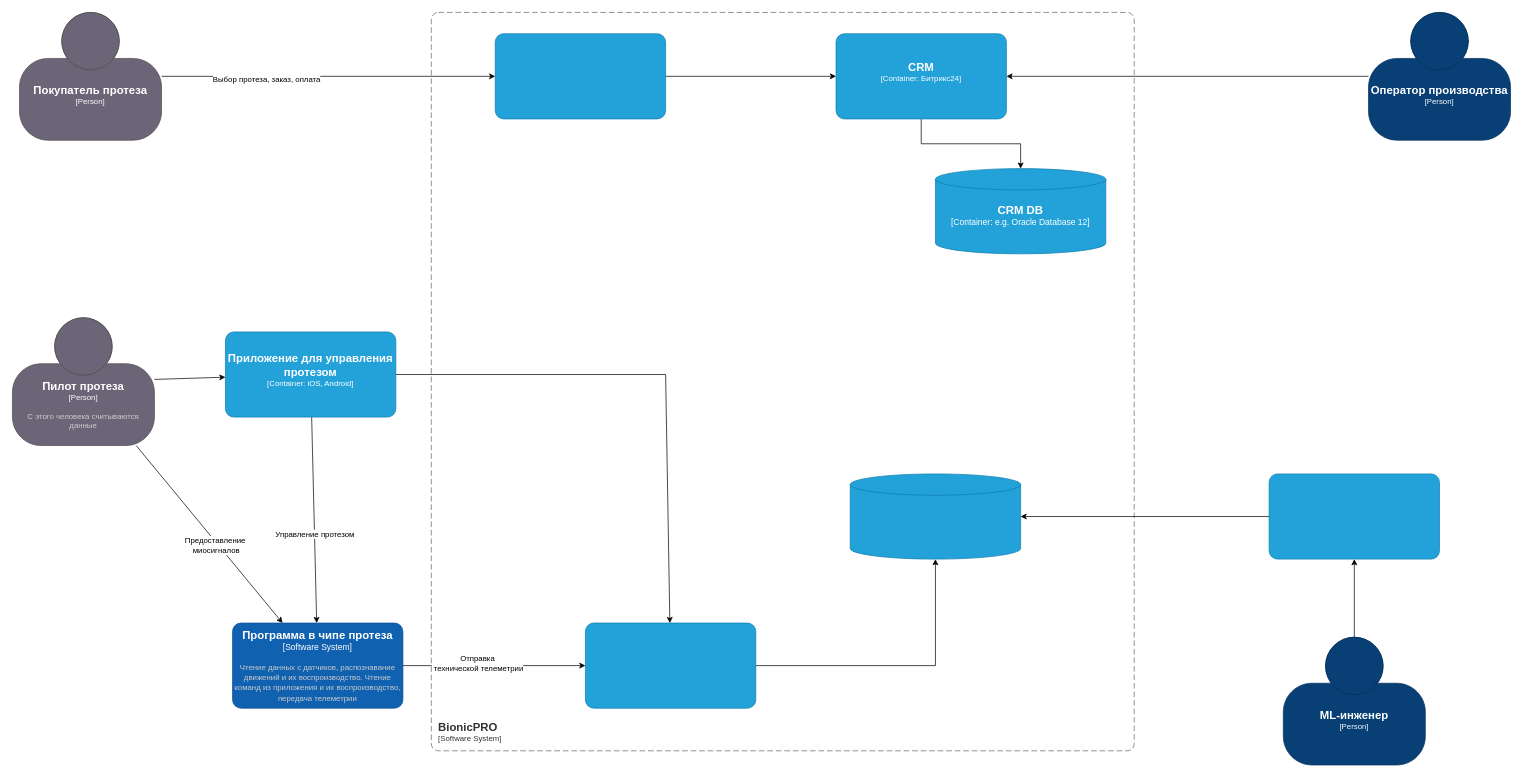
Some shapes in this 1523 by 777 pixel diagram are drawn without their labels. The shapes that lost their labels are listed below. From the top down, each one's box as (x1, y1, x2, y2) in pixels, then its label:
(495, 33, 666, 119): Интернет-магазин [Container: Битрикс24]
(850, 473, 1021, 559): База данных [Container: PostgreSQL]
(1268, 473, 1440, 559): cli tool [Container: Python]
(585, 622, 756, 708): Frontend [Container: JS]
